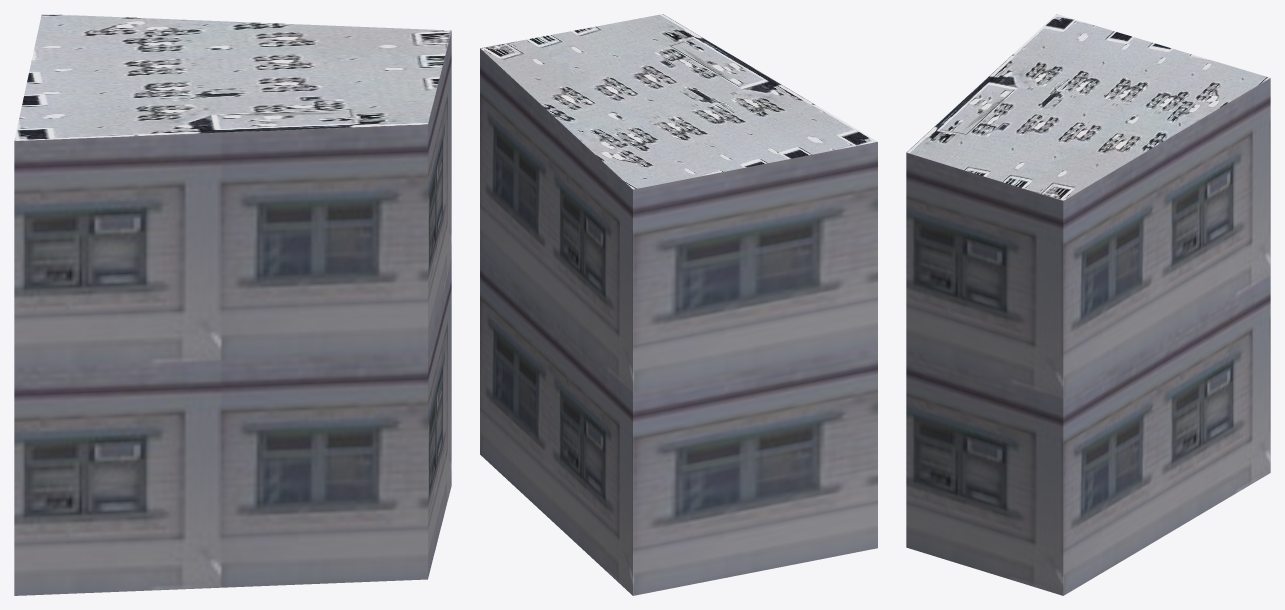
File: ResTex__1029.fbx
3 renders of one model, left to right at view 1: azimuth 30°, elevation 25°; view 2: azimuth 150°, elevation 25°; view 3: azimuth 270°, elevation 25°, orthographic. The views are drawn at different scales.
Visible parts, largest first — view 1: CityEngineMaterial_1_m, CityEngineMaterial_8_m; view 2: CityEngineMaterial_1_m, CityEngineMaterial_8_m; view 3: CityEngineMaterial_1_m, CityEngineMaterial_8_m.
Part boxes in pixels (<box>): CityEngineMaterial_1_m: <box>14,31,451,595</box>; CityEngineMaterial_8_m: <box>14,14,451,140</box>; CityEngineMaterial_1_m: <box>480,48,877,595</box>; CityEngineMaterial_8_m: <box>480,14,877,189</box>; CityEngineMaterial_1_m: <box>906,78,1270,595</box>; CityEngineMaterial_8_m: <box>906,14,1269,200</box>.
Size of the model in its own units: 6.09 by 6 by 5.02.
Materials: 2 (2 with a texture image).
